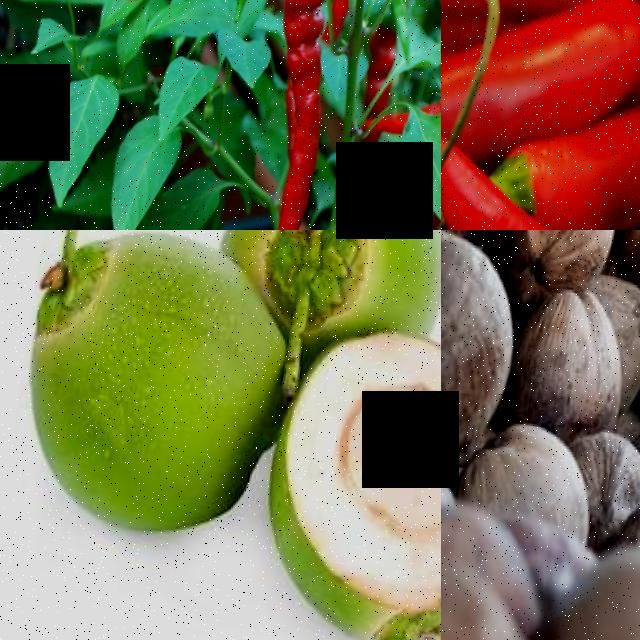chilli: (238, 0, 350, 230)
coconut: (4, 230, 268, 539), (254, 334, 441, 640), (499, 278, 635, 438), (235, 230, 441, 332), (441, 230, 528, 471), (477, 230, 630, 293)
